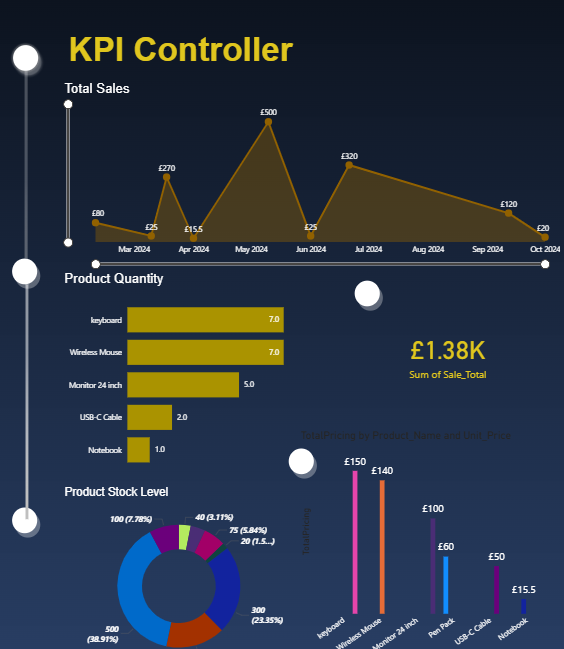

What the dashboard file says about the page in this screenshot:
{"tool":"powerbi","page":{"name":"Page 3","canvas":[950,1100],"ordinal":1},"visuals":[{"type":"barChart","title":"Product Quantity","fields":{"Category":["Product.Product_Name"],"Y":["Sum(Orders.Quantity)"]},"box":[98.3,433.3,376.7,333.3],"z":0},{"type":"stackedAreaChart","title":"Total Sales","fields":{"Category":["Orders.Order_Date"],"Y":["Orders.TotalSales"]},"box":[98.3,130,803.3,303.3],"z":1000},{"type":"donutChart","title":"Product Stock Level","fields":{"Series":["Product.Product_Name"],"Y":["Sum(Product.Stock_Level)"]},"box":[98.3,775,376.7,303.3],"z":2000},{"type":"card","fields":{"Values":["Sum(Orders.Sale_Total)"]},"box":[545,450,341.7,235],"z":3000},{"type":"clusteredColumnChart","fields":{"Y":["Customer.TotalPricing"],"Category":["Product.Product_Name"],"Series":["Product.Unit_Price"]},"box":[476,686,426,394],"z":4000},{"type":"textbox","box":[48,44,482,86],"z":5000},{"type":"actionButton","box":[16,30,598,870],"z":6000}]}

Visuals, with their boxes in screenshot pixels (x1, y1, x2, y2), scaled from the page's 950x1100 canvas onto the 564x649 screenshot:
"Product Quantity" barChart: locate(58, 256, 282, 452)
"Total Sales" stackedAreaChart: locate(58, 77, 535, 256)
"Product Stock Level" donutChart: locate(58, 457, 282, 636)
card - Sum(Orders.Sale_Total): locate(324, 266, 526, 404)
clusteredColumnChart - Customer.TotalPricing x Product.Product_Name: locate(283, 405, 536, 637)
textbox: locate(28, 26, 315, 77)
actionButton: locate(9, 18, 365, 531)
